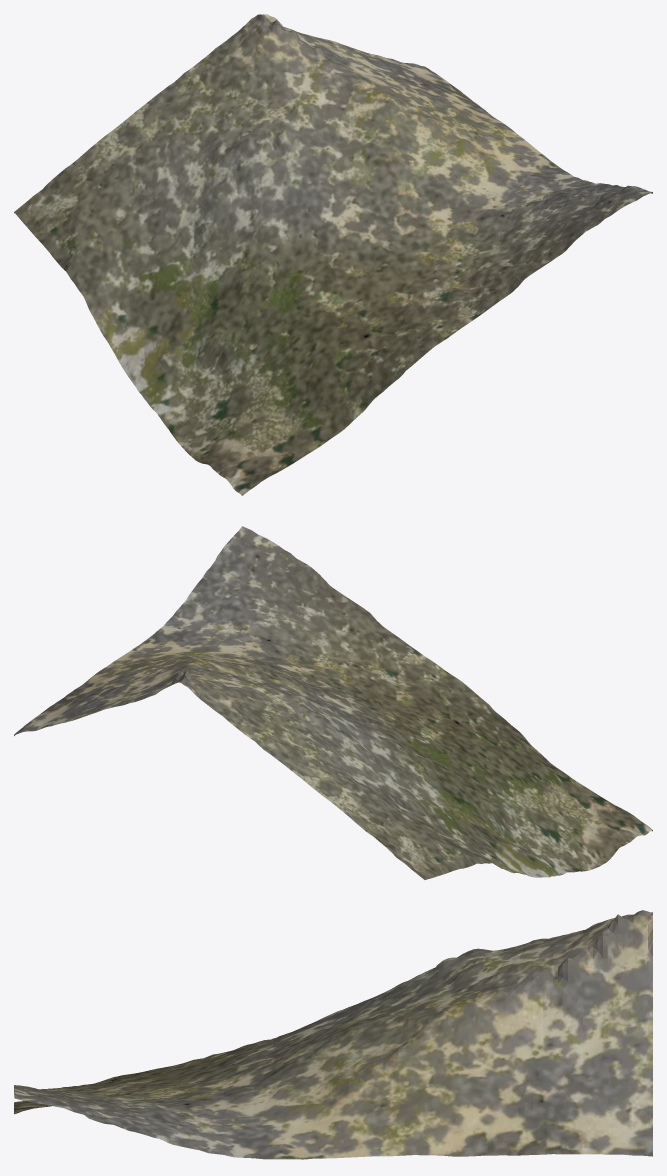
3 renders of one model, top to bottom at view 1: azimuth 30°, elevation 25°; view 2: azimuth 150°, elevation 25°; view 3: azimuth 270°, elevation 25°, orthographic. The views are drawn at different scales.
Size of the model in its own units: 250 by 151 by 241.
Materials: 1 (1 with a texture image).
